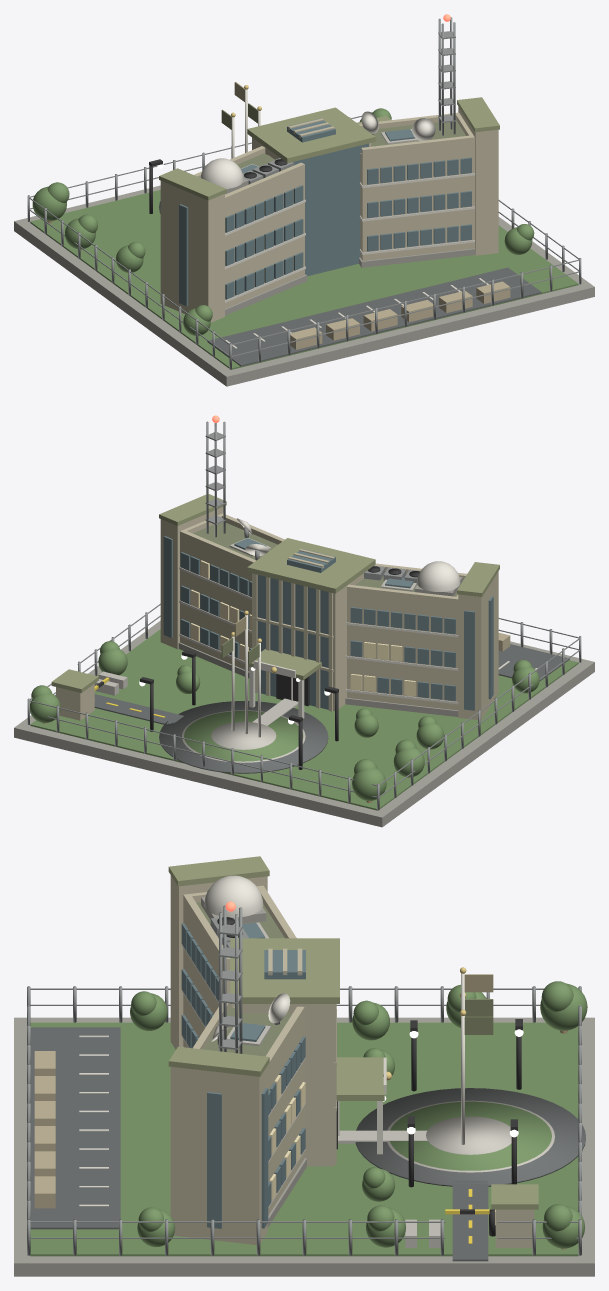
The picture shows the model from 3 angles, top to bottom: view 1: azimuth 30°, elevation 25°; view 2: azimuth 150°, elevation 25°; view 3: azimuth 270°, elevation 25°; orthographic projection. The views are drawn at different scales.
Parts seen in each view (by area): view 1: Cube.001, Cube, Cube.030, Cube.156, Cube.166, Cube.002, Cube.099, Cube.178, Cube.087, Cube.084, Cube.157, Cube.159 (+19 smaller); view 2: Cube.001, Cube, Cube.099, Cube.166, Cylinder.001, Cube.030, Cube.156, Cube.178, Cylinder.003, Cube.087, Cube.176, Cylinder.004 (+26 smaller); view 3: Cube.001, Cube, Cube.002, Cube.087, Cylinder.001, Cylinder.003, Cube.178, Cube.177, Cube.013, Cylinder.004, Cube.156, Cube.030 (+37 smaller).
Boxes of the visible parts, x1,y1,x2,y2 form: Cube.001: (30,190,578,369); Cube: (14,185,594,386); Cube.030: (360,144,474,260); Cube.156: (160,181,224,322); Cube.166: (293,143,368,276); Cube.002: (207,267,541,366); Cube.099: (225,171,304,308); Cube.178: (247,107,375,163); Cube.087: (458,106,498,255); Cube.084: (361,135,474,156); Cube.157: (159,168,226,200); Cube.159: (179,204,188,306); Cube.001: (30,629,578,810); Cube: (14,620,594,827); Cube.099: (347,593,458,710); Cube.166: (257,575,328,709); Cylinder.001: (159,701,328,773); Cube.030: (180,538,251,671); Cube.156: (458,571,498,720); Cube.178: (247,538,375,593); Cylinder.003: (184,711,303,761); Cube.087: (160,507,223,649); Cube.176: (333,573,363,711); Cylinder.004: (211,721,276,749); Cube.001: (30,1022,578,1256); Cube: (14,1017,594,1276); Cube.002: (30,1027,120,1229); Cube.087: (170,1066,267,1244); Cylinder.001: (355,1088,585,1186); Cylinder.003: (390,1101,551,1170); Cube.178: (230,938,339,1003); Cube.177: (238,1004,333,1166); Cube.013: (452,1180,488,1261); Cylinder.004: (426,1116,511,1154); Cube.156: (170,875,267,1049); Cube.030: (267,1017,304,1215).
Size of the model in its own units: 3.92 by 2.45 by 3.92.
